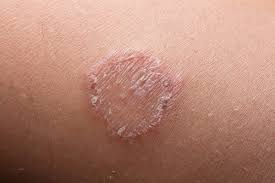tina: (73, 37, 195, 149)
